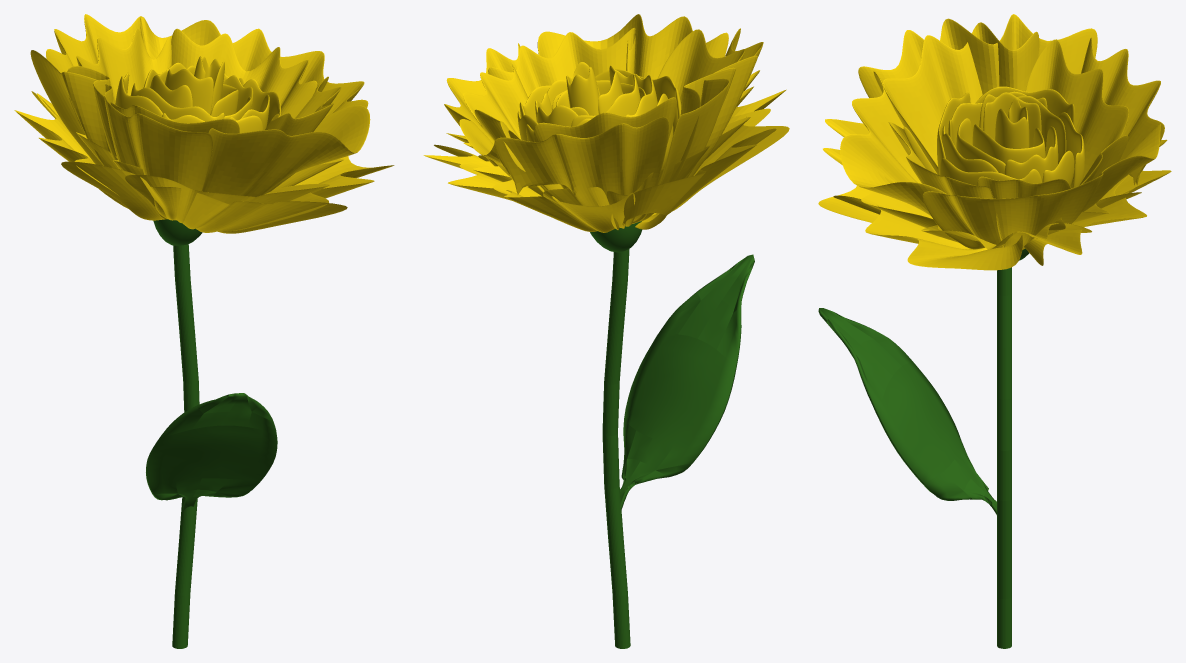
The picture shows the model from 3 angles, left to right: view 1: azimuth 30°, elevation 25°; view 2: azimuth 150°, elevation 25°; view 3: azimuth 270°, elevation 25°; orthographic projection. The views are drawn at different scales.
Visible parts, largest first — view 1: f23; view 2: f23; view 3: f23.
Part boxes in pixels (<box>): f23: <box>14,14,394,648</box>; f23: <box>423,14,789,648</box>; f23: <box>818,14,1171,648</box>.
Size of the model in its own units: 0.3875 by 0.7009 by 0.3878.
